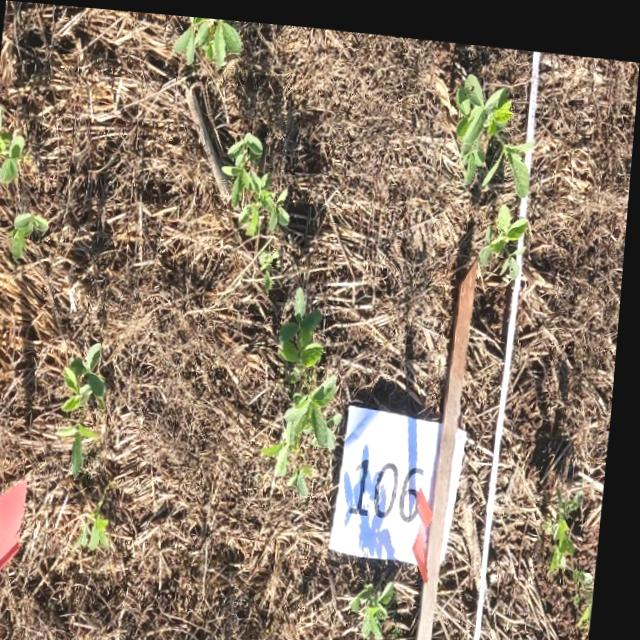soy_plant: (270, 281, 347, 488), (457, 66, 530, 188), (223, 128, 291, 236), (67, 342, 112, 474), (555, 487, 603, 600), (481, 196, 530, 270), (174, 13, 241, 63), (359, 575, 403, 631), (0, 107, 27, 181), (13, 212, 52, 257), (86, 507, 117, 547), (259, 238, 283, 284)
